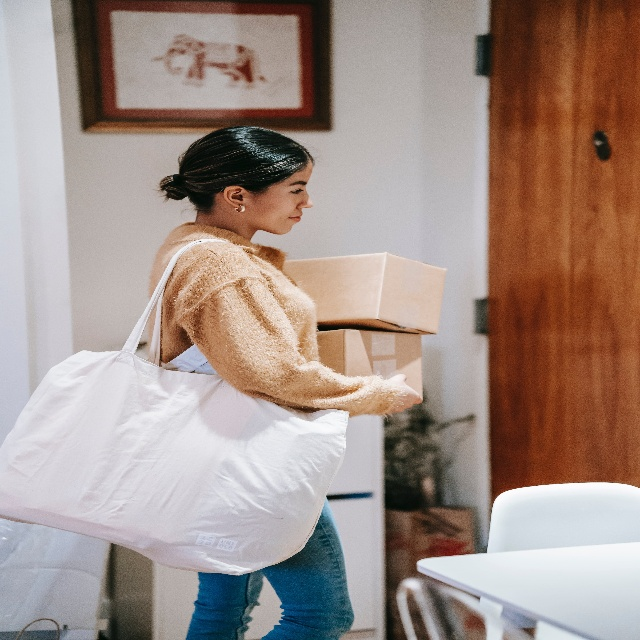Sin_guantes: (387, 374, 423, 413)
